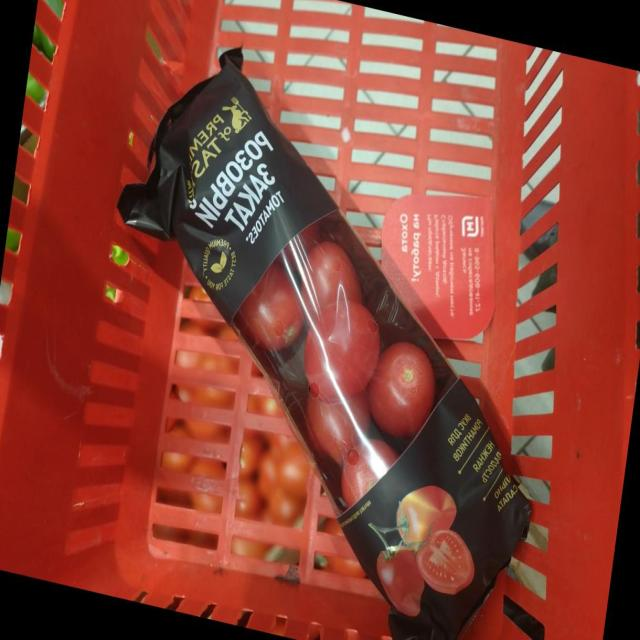Tomatoes: (304, 299, 380, 401), (368, 342, 435, 438), (235, 261, 303, 350), (301, 239, 361, 317), (340, 437, 397, 506), (305, 394, 357, 463), (280, 220, 322, 270), (349, 391, 370, 430)
